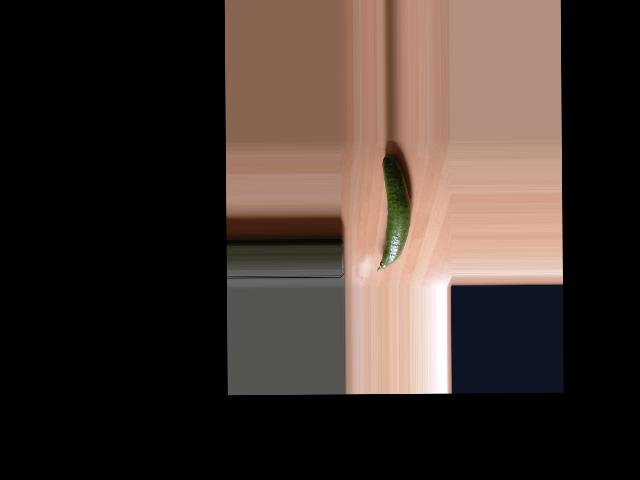cucumber: (376, 152, 412, 271)
